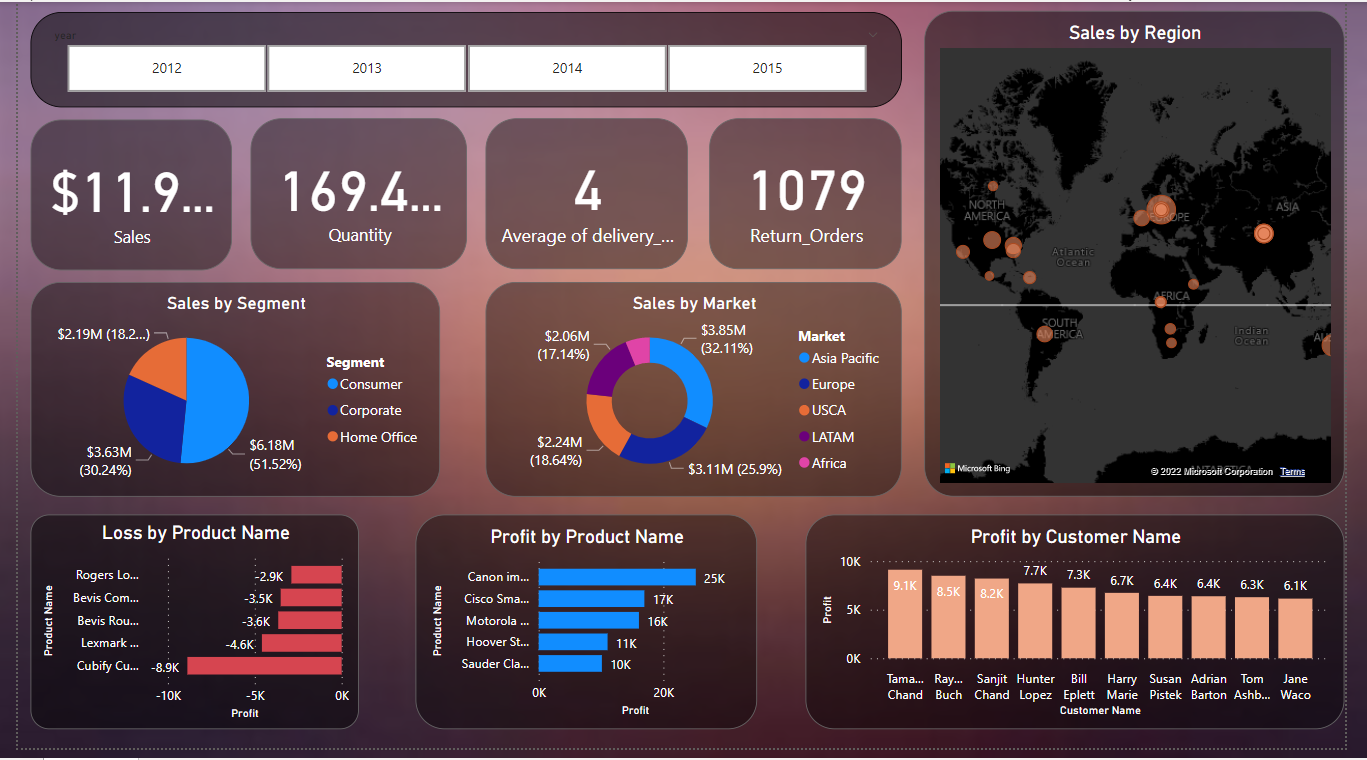

The page's visual inventory and layout, read from the dashboard file:
{"tool":"powerbi","page":{"name":"Page 1","canvas":[1280,720],"ordinal":0},"visuals":[{"type":"card","fields":{"Values":["Orders.Sales"]},"box":[12.1,113.4,194.2,145.9],"z":0},{"type":"card","fields":{"Values":["Orders.Quantity"]},"box":[224.3,112.2,208.6,145.9],"z":1000},{"type":"card","fields":{"Values":["Orders.delivery_days"]},"box":[451.1,112.2,195.4,145.9],"z":2000},{"type":"slicer","fields":{"Values":["Orders.year"]},"box":[12.1,9.6,840.6,91.7],"z":3000},{"type":"card","title":"Returns Orders","fields":{"Values":["Returns.Return_Orders"]},"box":[666.9,112.2,185.7,145.9],"z":4000},{"type":"map","fields":{"Size":["Orders.Sales"],"Category":["Orders.Region"]},"box":[874.4,8.4,405.2,469.1],"z":5000},{"type":"clusteredBarChart","fields":{"Category":["Orders.Product Name"],"Y":["Orders.Profit"]},"box":[383.5,494.5,329.2,207.4],"z":6000},{"type":"clusteredBarChart","title":"Loss by Product Name","fields":{"Category":["Orders.Product Name"],"Y":["Orders.Profit"]},"box":[12.1,494.5,317.2,207.4],"z":7000},{"type":"donutChart","fields":{"Category":["Orders.Market","Orders.Segment"],"Y":["Orders.Sales"]},"box":[451.1,270.2,401.6,207.4],"z":8000},{"type":"pieChart","fields":{"Category":["Orders.Segment"],"Y":["Orders.Sales"]},"box":[12.1,270.2,395.6,207.4],"z":8001},{"type":"columnChart","fields":{"Category":["Orders.Customer Name","Orders.Product Name"],"Y":["Orders.Profit"]},"box":[759.8,494.5,519.8,207.4],"z":8002}]}

Visuals, with their boxes in screenshot pixels (x1, y1, x2, y2), scaled from the page's 1280x720 canvas onto the 1367x760 screenshot:
card - Orders.Sales: BBox(13, 120, 220, 274)
card - Orders.Quantity: BBox(240, 118, 462, 272)
card - Orders.delivery_days: BBox(482, 118, 690, 272)
slicer - Orders.year: BBox(13, 10, 911, 107)
"Returns Orders" card: BBox(712, 118, 911, 272)
map - Orders.Sales x Orders.Region: BBox(934, 9, 1366, 504)
clusteredBarChart - Orders.Product Name x Orders.Profit: BBox(410, 522, 761, 741)
"Loss by Product Name" clusteredBarChart: BBox(13, 522, 352, 741)
donutChart - Orders.Market x Orders.Segment: BBox(482, 285, 911, 504)
pieChart - Orders.Segment x Orders.Sales: BBox(13, 285, 435, 504)
columnChart - Orders.Customer Name x Orders.Product Name: BBox(811, 522, 1366, 741)
